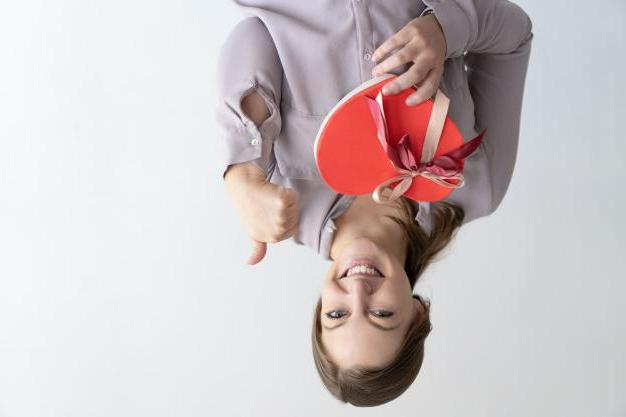thumbsdown: (246, 187, 301, 266)
